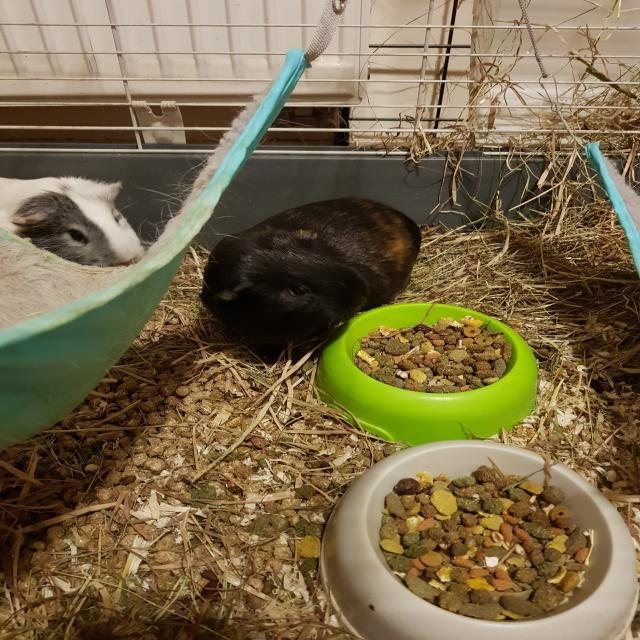guinea pig: (198, 196, 423, 367), (2, 171, 147, 270)
